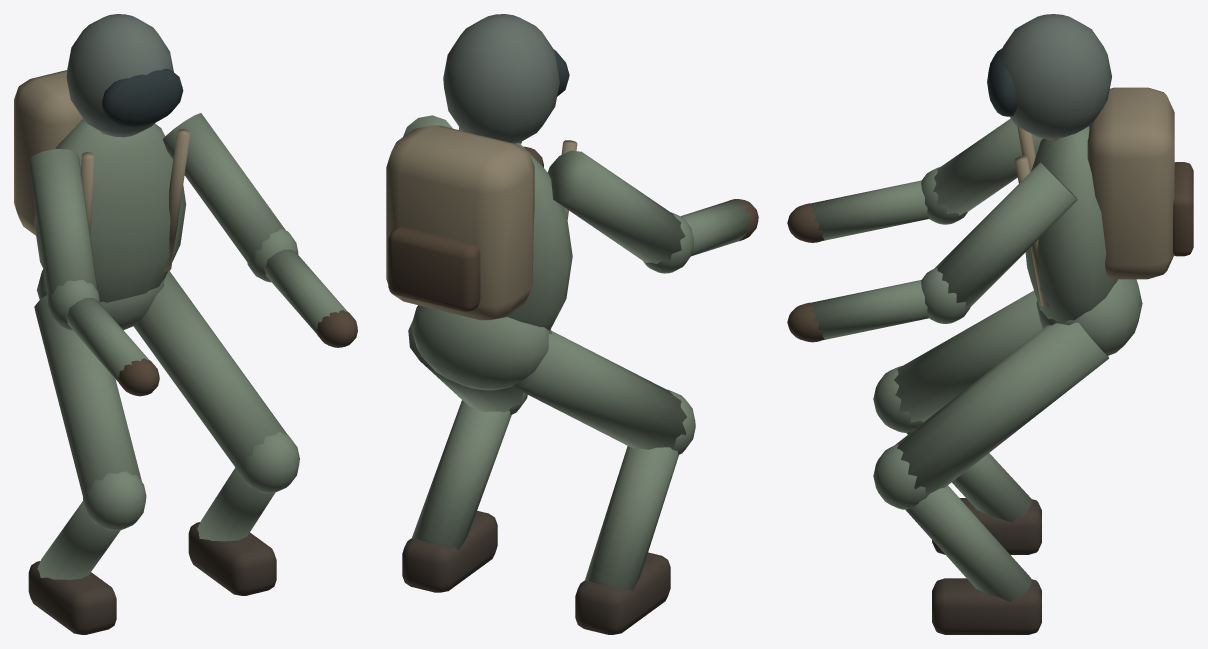
File: SM_RiderSeated.fbx
The picture shows the model from 3 angles, left to right: view 1: azimuth 30°, elevation 25°; view 2: azimuth 150°, elevation 25°; view 3: azimuth 270°, elevation 25°; orthographic projection. The views are drawn at different scales.
Visible parts, largest first — view 1: SM_RiderSeated; view 2: SM_RiderSeated; view 3: SM_RiderSeated.
Boxes of the visible parts, bbox=[...] form: SM_RiderSeated: bbox=[14, 14, 357, 634]; SM_RiderSeated: bbox=[386, 14, 758, 634]; SM_RiderSeated: bbox=[787, 14, 1193, 634].
Bounding box in the file's own units: 76.2 × 166 × 107.
